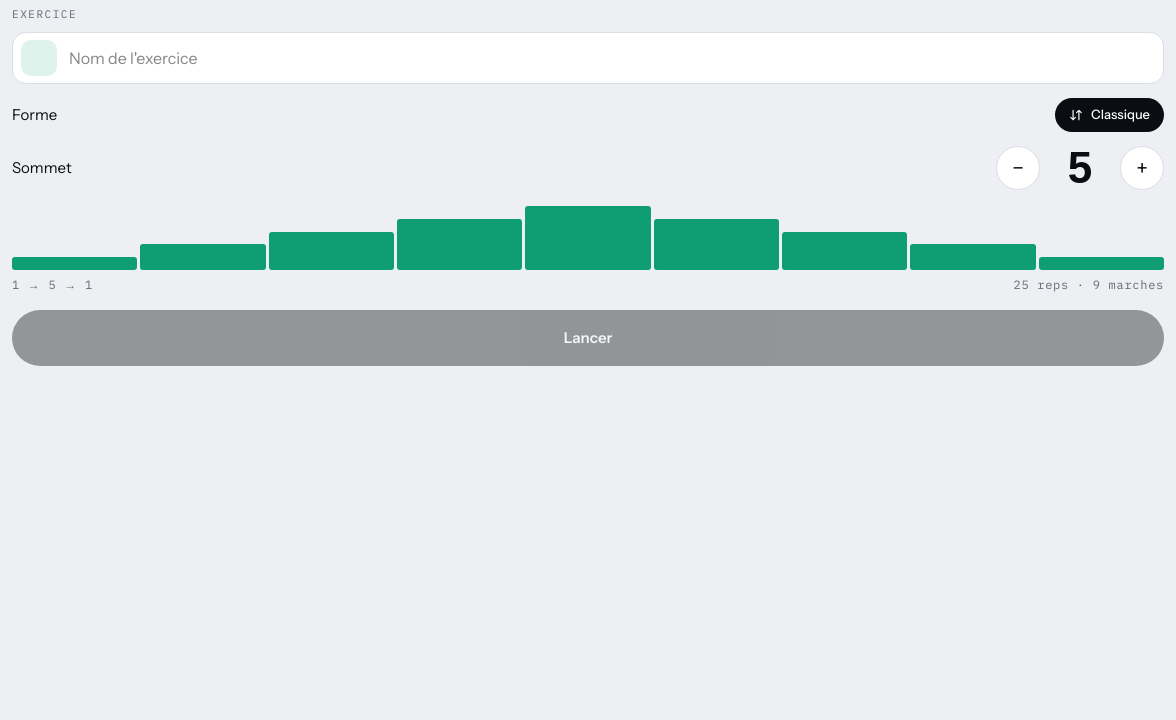
it: PyramidLauncher › narrows the exercise list as letters are typed, names starting with them first
The width and height of the screenshot is (1176, 720).
Type "pu" into the dropdown with placeholder "Nom de l'exercice". click: [612, 58]
box: x1=69 y1=33 x2=1155 y2=83
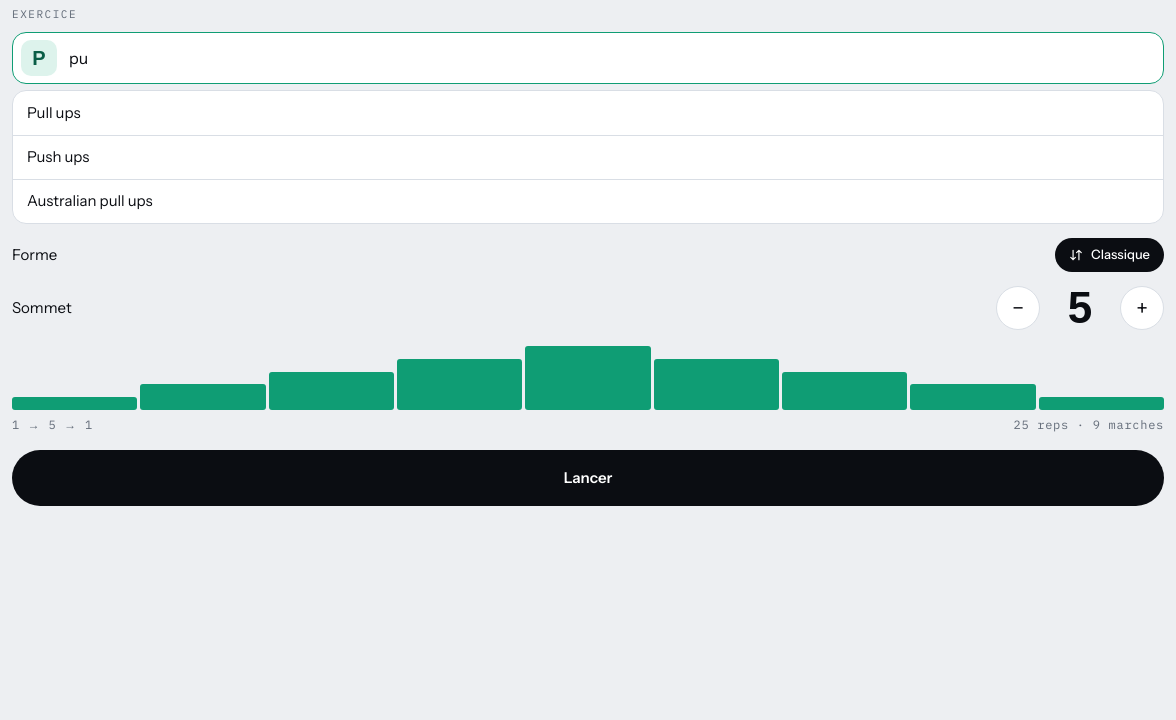
Now the options read "Pull ups", "Push ups", "Australian pull ups", in this order, box x1=13 y1=91 x2=1163 y2=135; x1=13 y1=135 x2=1163 y2=179; x1=13 y1=179 x2=1163 y2=223
Type "l" into the dropdown with placeholder "Nom de l'exercice". click: [612, 58]
box: x1=69 y1=33 x2=1155 y2=83
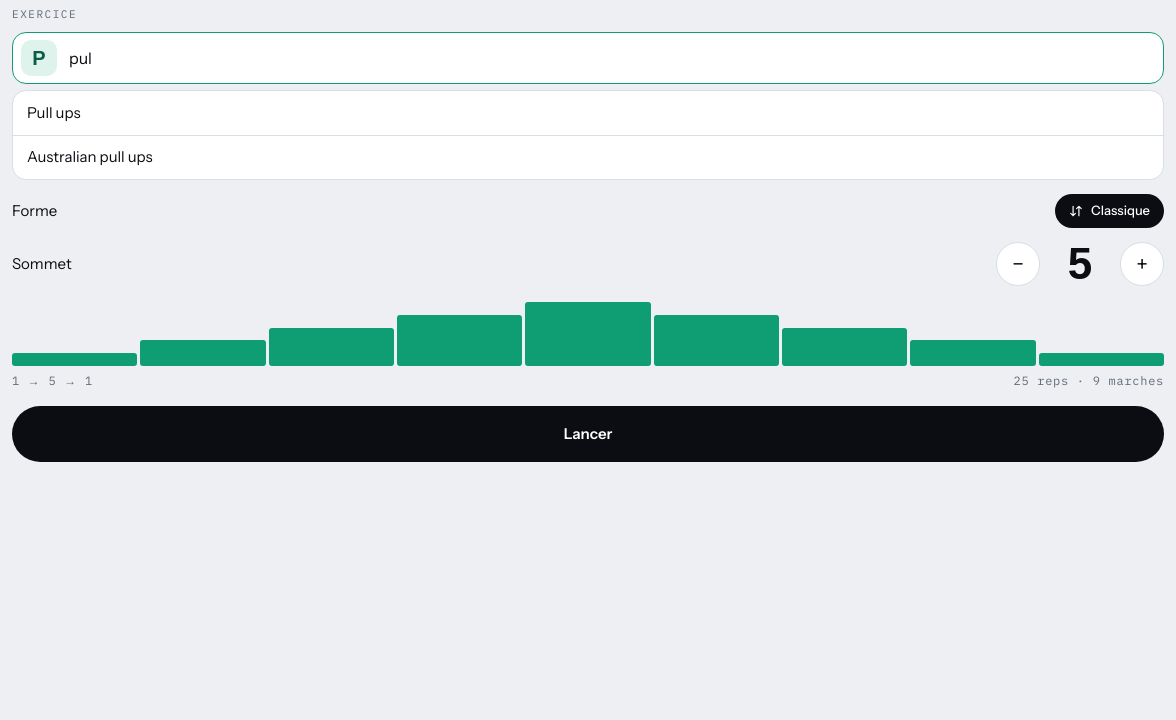
Now the options read "Pull ups", "Australian pull ups", in this order, box x1=13 y1=91 x2=1163 y2=135; x1=13 y1=135 x2=1163 y2=179
